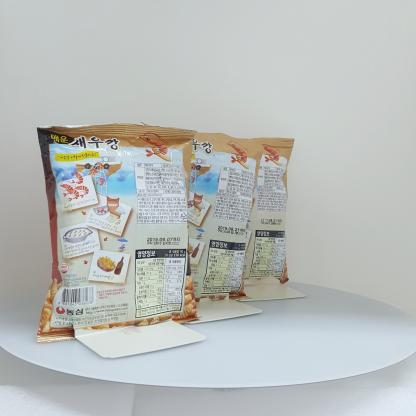Plastic Packaging: (33, 115, 195, 335)
